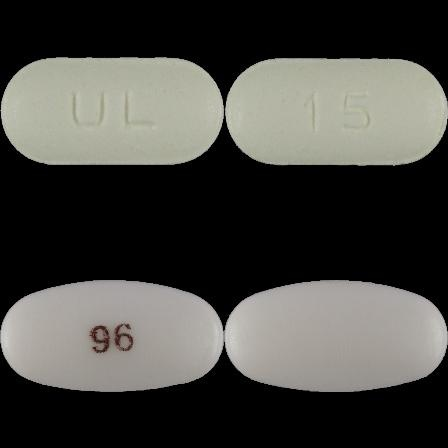68788-9418: (0, 0, 224, 224)
